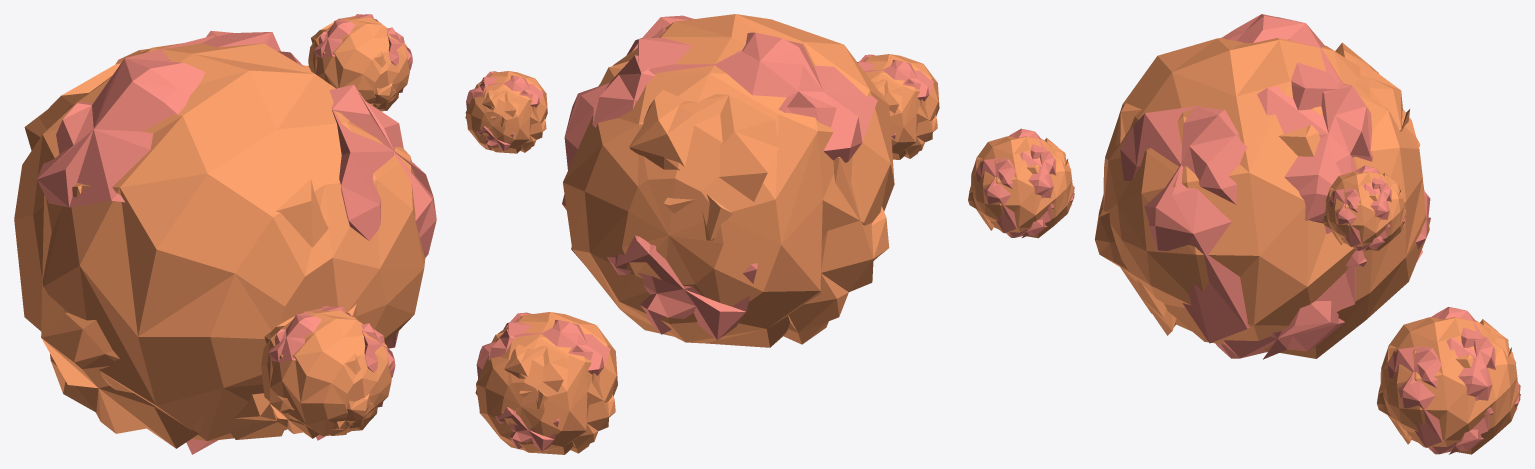
File: mars.glb
The picture shows the model from 3 angles, left to right: view 1: azimuth 30°, elevation 25°; view 2: azimuth 150°, elevation 25°; view 3: azimuth 270°, elevation 25°; orthographic projection. The views are drawn at different scales.
Visible parts, largest first — view 1: model, miniasteroid2, miniasteroid3; view 2: model, miniasteroid1, miniasteroid3, miniasteroid2; view 3: model, miniasteroid1, miniasteroid2, miniasteroid3.
Boxes of the visible parts, <box> form: model: <box>14,31,436,454</box>; miniasteroid2: <box>261,306,395,440</box>; miniasteroid3: <box>308,14,412,111</box>; model: <box>562,14,894,347</box>; miniasteroid1: <box>475,312,617,454</box>; miniasteroid3: <box>465,71,547,153</box>; miniasteroid2: <box>857,54,939,159</box>; model: <box>1095,14,1430,359</box>; miniasteroid1: <box>1377,307,1520,454</box>; miniasteroid2: <box>968,128,1074,238</box>; miniasteroid3: <box>1323,165,1406,250</box>.
Size of the model in its own units: 0.3264 by 0.3322 by 0.4592.
